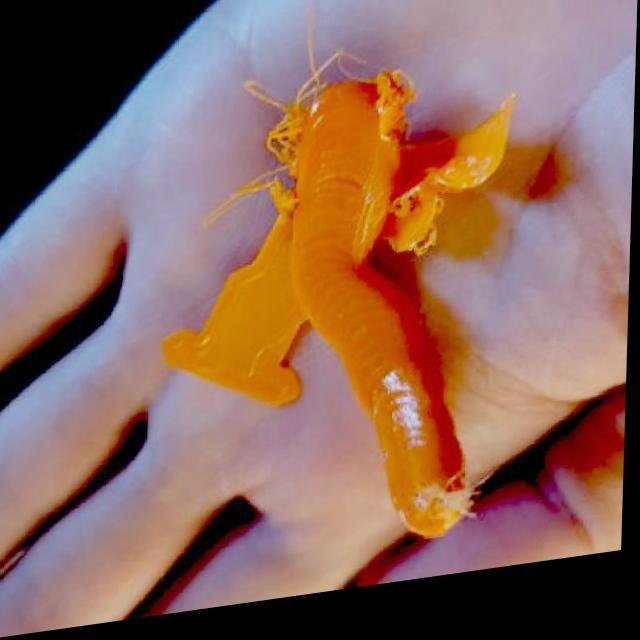spaghetti: (205, 4, 454, 297)
